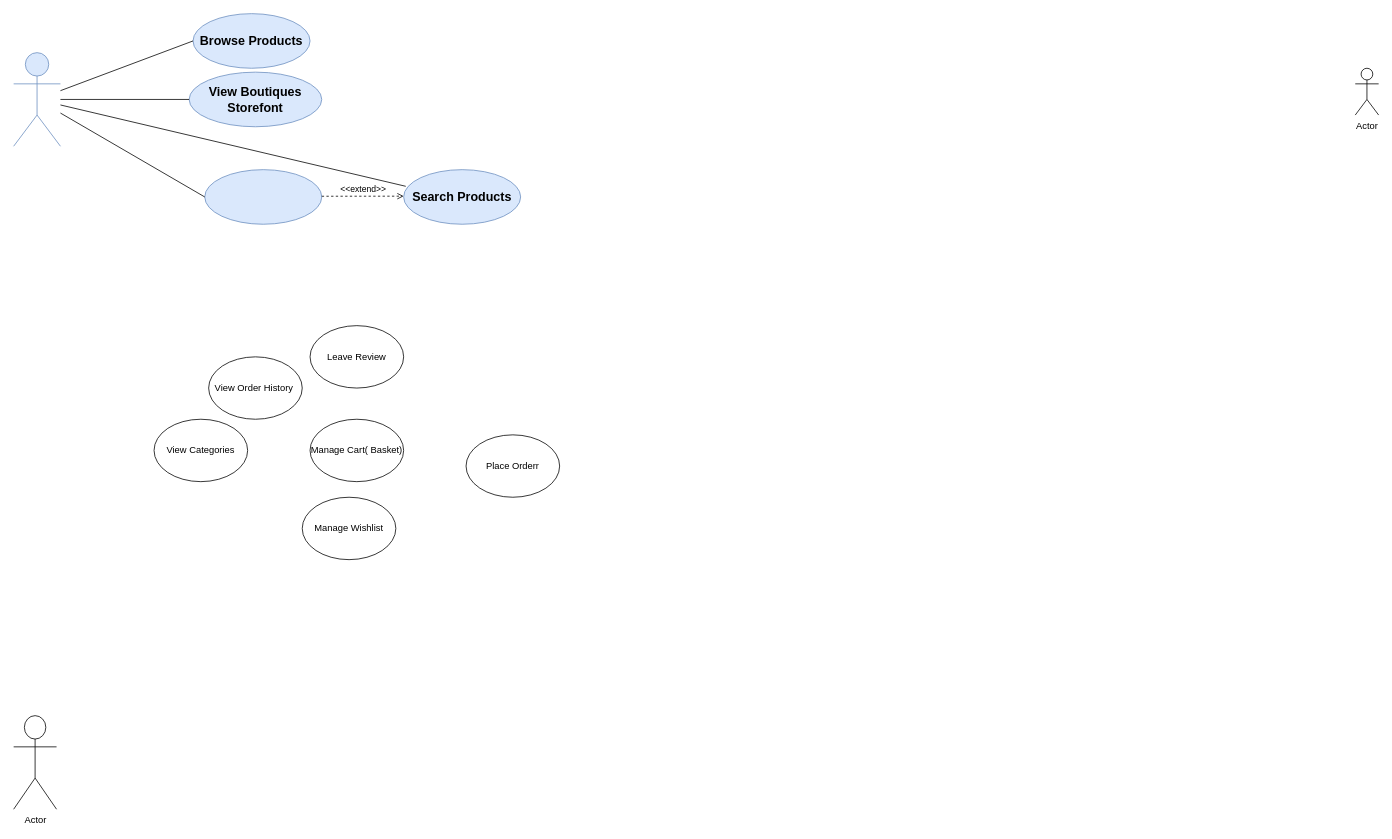
Image size: 1392x839. Some labels were removed from this diagram. The box of each missing label's shape, as (x1, y1, x2, y2) in pixels:
Register: (204, 169, 322, 224)
Visitor: (13, 52, 60, 146)
